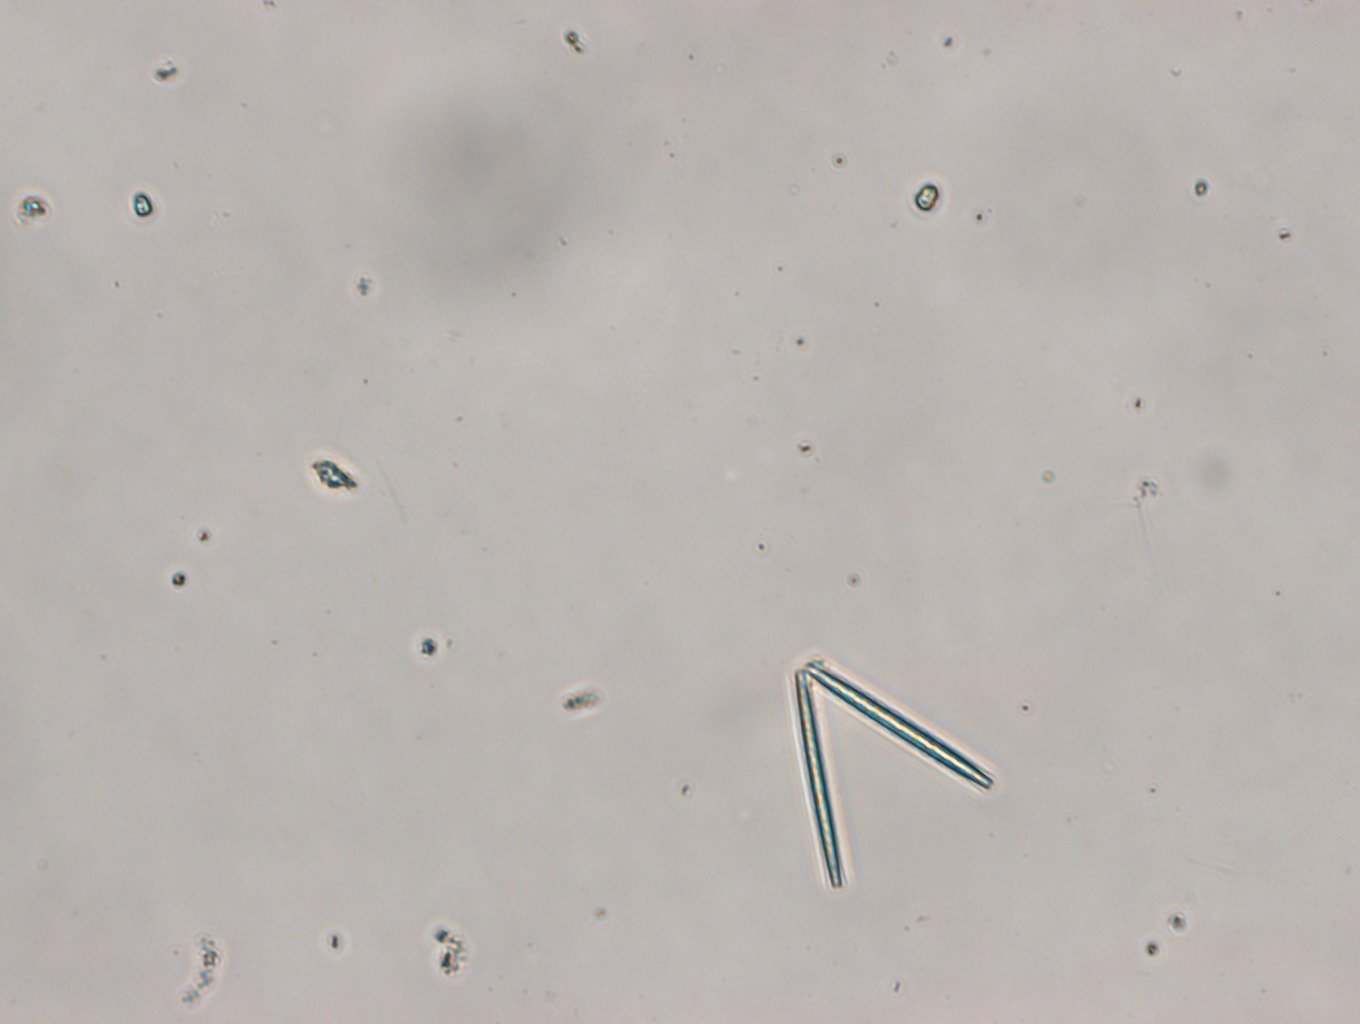thalassionema nitzschioides: (791, 659, 994, 892)
